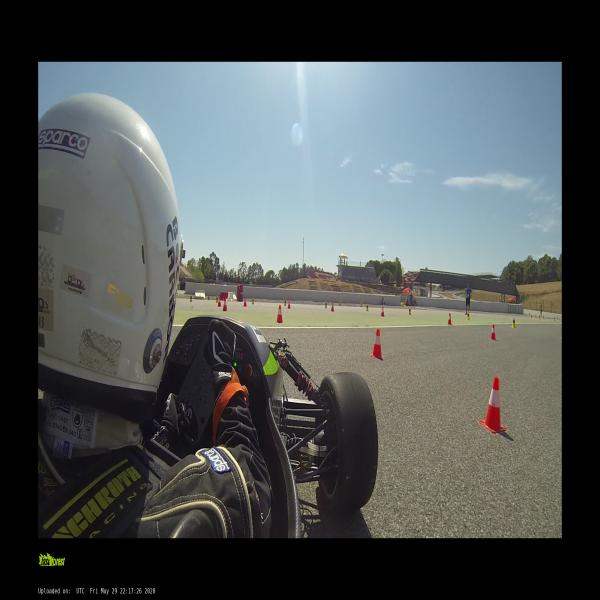orange_cone: (479, 378, 506, 435), (370, 329, 383, 360), (276, 305, 283, 323), (489, 324, 496, 340), (447, 312, 452, 326), (222, 298, 227, 311), (381, 306, 385, 317), (243, 297, 247, 307), (287, 301, 291, 309), (218, 297, 221, 307), (331, 302, 334, 312)
yellow_cone: (465, 312, 470, 321), (512, 318, 516, 328), (324, 301, 327, 309), (366, 304, 369, 312), (189, 294, 192, 301), (284, 299, 287, 306), (552, 316, 555, 322), (409, 307, 411, 315), (252, 298, 254, 305), (216, 296, 218, 302)
